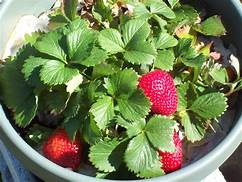Fresa: (137, 64, 180, 119)
